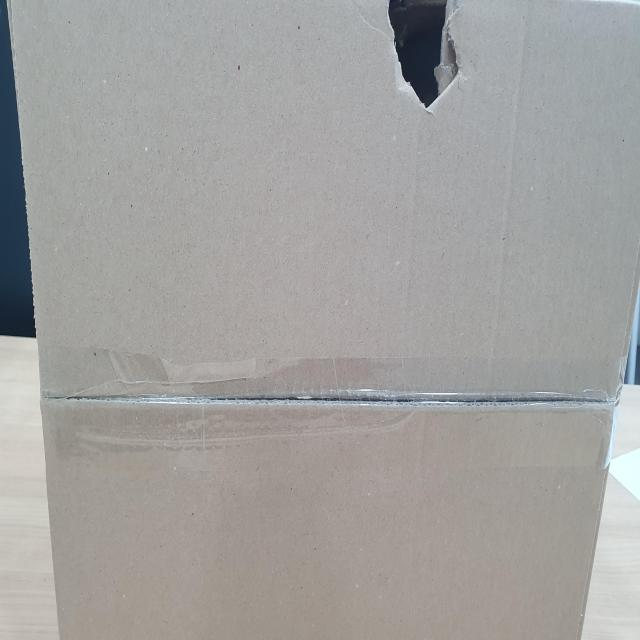damaged: (381, 0, 462, 112)
